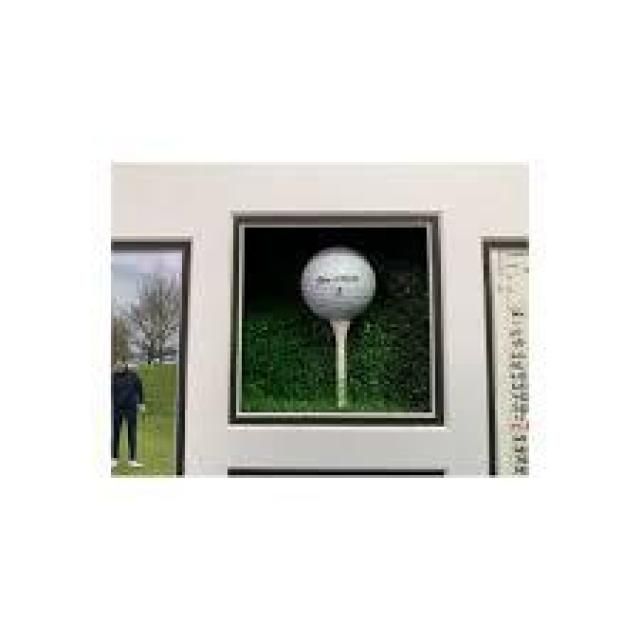ball: (293, 240, 382, 324)
